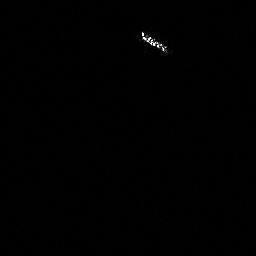ship: (138, 32, 170, 55)
